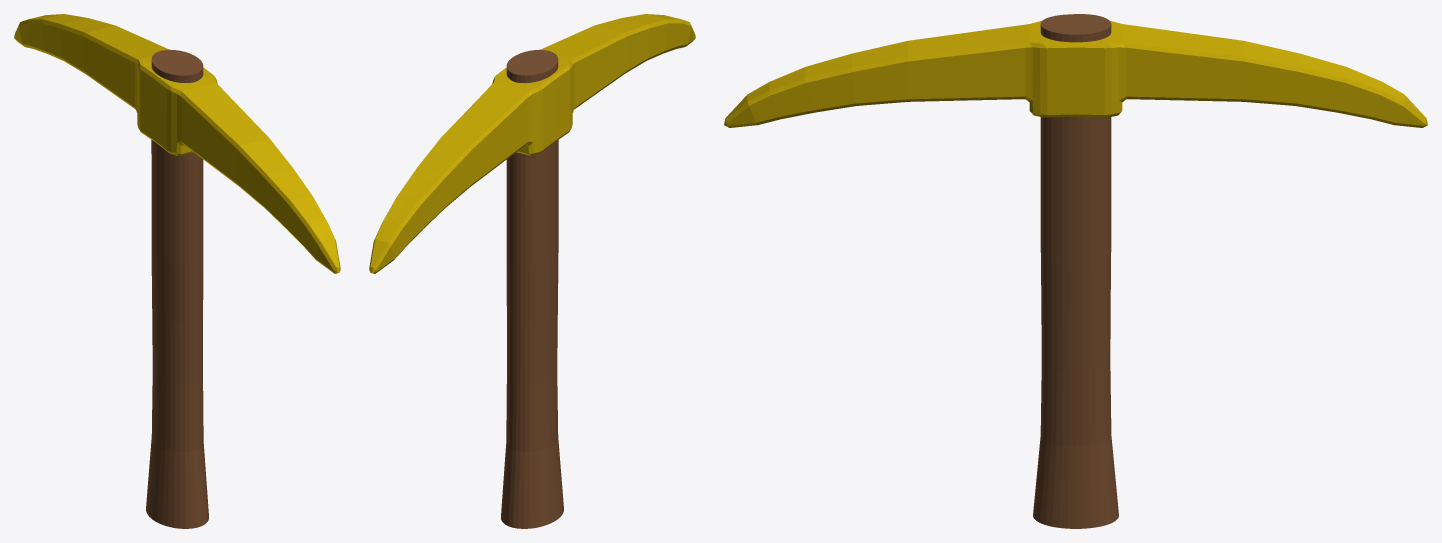
The model's file is PickaxeGold.fbx.
The picture shows the model from 3 angles, left to right: view 1: azimuth 30°, elevation 25°; view 2: azimuth 150°, elevation 25°; view 3: azimuth 270°, elevation 25°; orthographic projection. The views are drawn at different scales.
Parts seen in each view (by area): view 1: Cylinder, Cube; view 2: Cylinder, Cube; view 3: Cube, Cylinder.
Part boxes in pixels (box(x1,y1,x2,y2)): Cylinder: box(146, 49, 208, 528); Cube: box(14, 14, 340, 273); Cylinder: box(501, 49, 563, 528); Cube: box(369, 14, 695, 273); Cube: box(724, 20, 1427, 127); Cylinder: box(1033, 14, 1118, 528).
Size of the model in its own units: 154 by 1339 by 1734.
